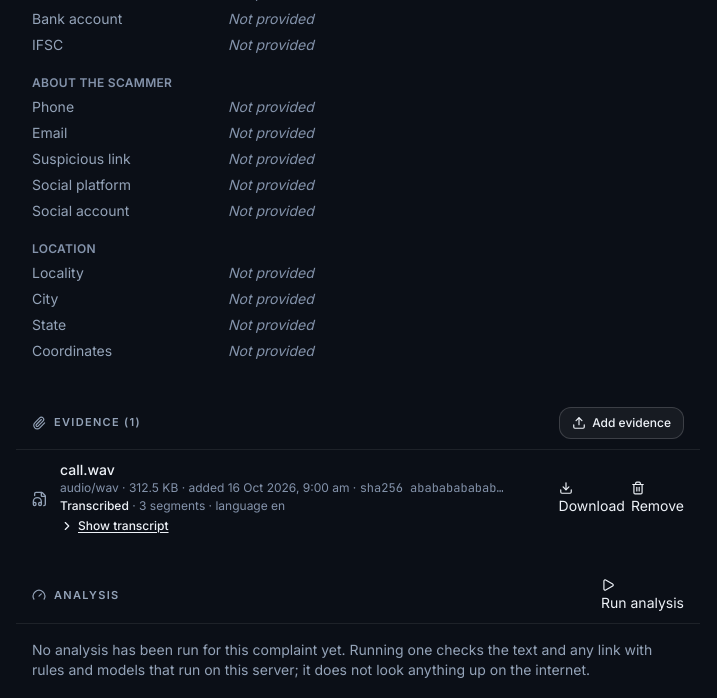
Test: audio evidence on the complaint page › shows the transcription status and opens the transcript with timestamps
The image size is (717, 698).
(page scrolled)
Expected: the element with test id "transcription-status" reads "Transcribed · 3 segments · language en", 60,498 -> 285,512
Click the button with test id "transcript-toggle" at (114, 526), box 60,518 -> 168,534
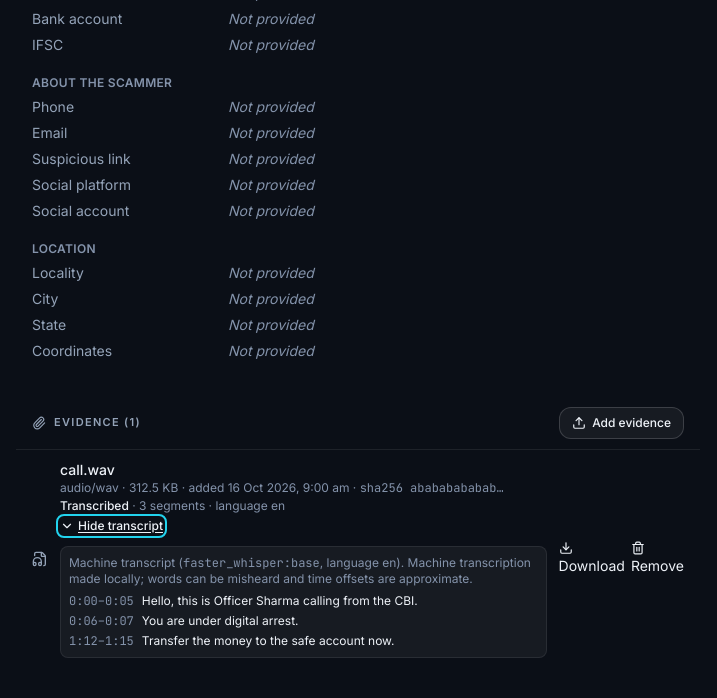
Expected: the button with test id "transcript-toggle" is expanded
Expected: the element with test id "transcript" shows "faster_whisper:base, language en", 60,546 -> 546,658
Expected: the element with test id "transcript" shows "time offsets are approximate", 69,554 -> 531,586
Click the button with test id "transcript-toggle" at (112, 526), box 60,518 -> 163,534
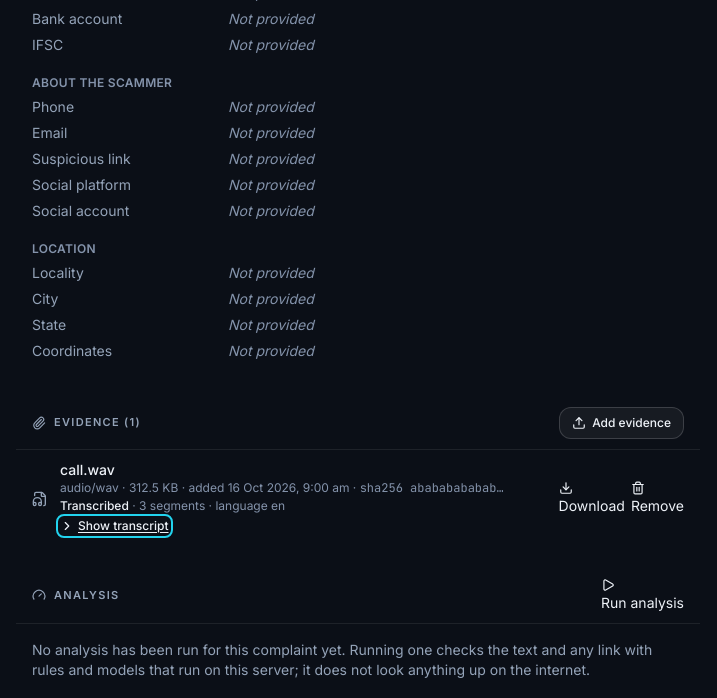
Expected: the list with test id "transcript" is gone
